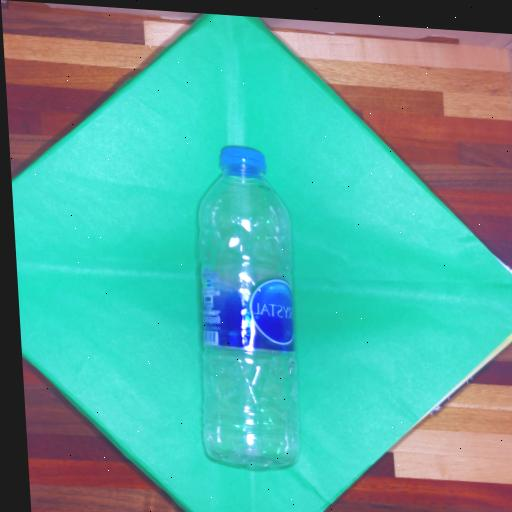bottle: (198, 146, 298, 465)
